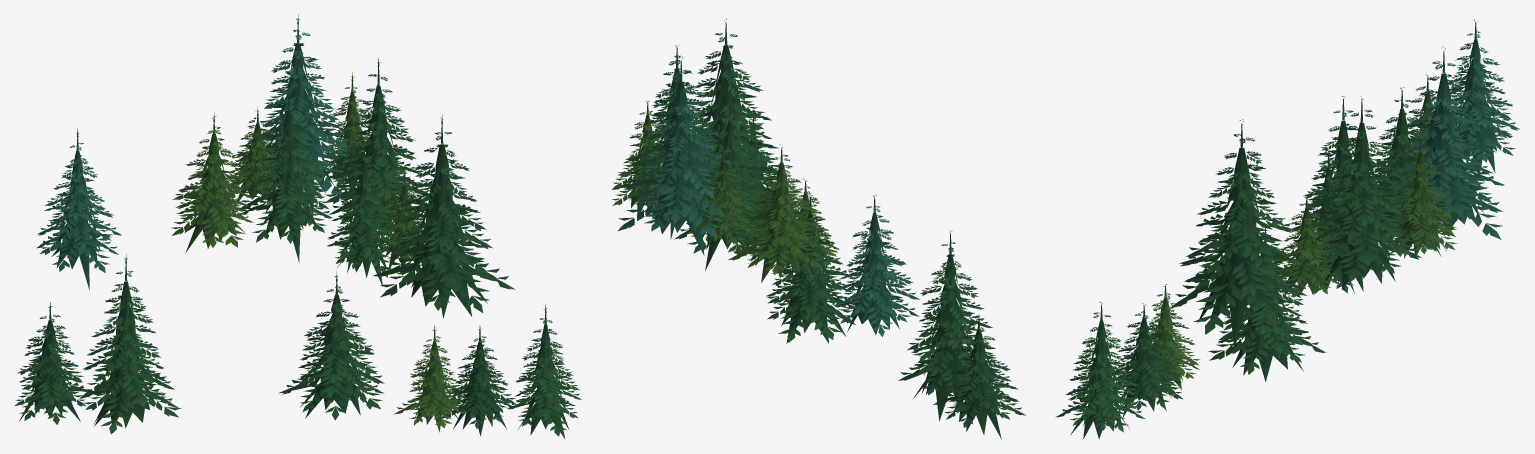
3 views of the same model, side by side, from view 1: azimuth 30°, elevation 25°; view 2: azimuth 150°, elevation 25°; view 3: azimuth 270°, elevation 25° (orthographic). The views are drawn at different scales.
Parts seen in each view (by area): view 1: pn_0; view 2: pn_0; view 3: pn_0.
Part boxes in pixels (bbox=[...]): pn_0: bbox=[15, 14, 581, 439]; pn_0: bbox=[612, 18, 1025, 438]; pn_0: bbox=[1055, 19, 1519, 439].
Bounding box in the file's own units: 39.31 × 28.99 × 34.55.
Materials: 1 (1 with a texture image).
